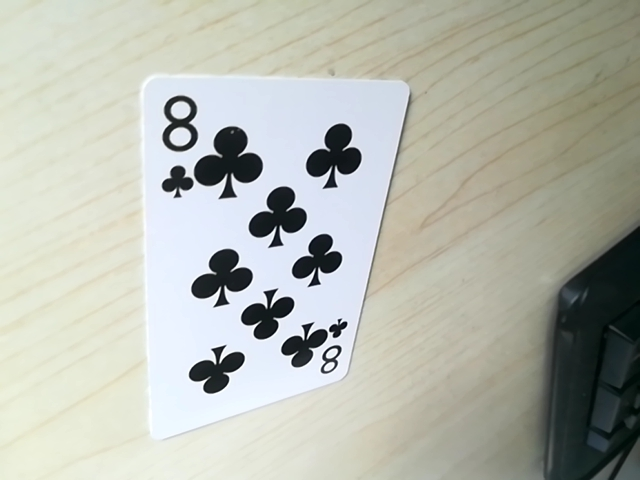mh 8: (151, 88, 202, 195), (306, 330, 351, 380)
